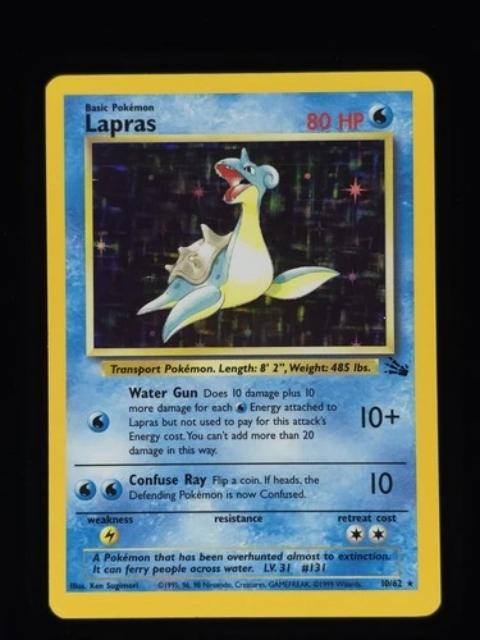Card: (44, 64, 443, 622)
Name: (82, 110, 159, 138)
